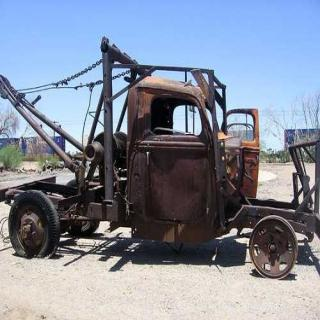Towing_truck: (1, 35, 318, 280)
